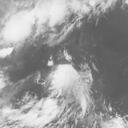cyclone: (48, 64, 82, 98)
